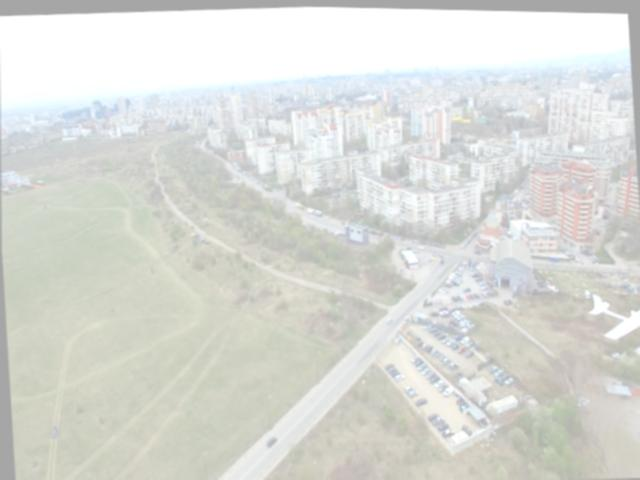plane: (589, 287, 640, 337)
